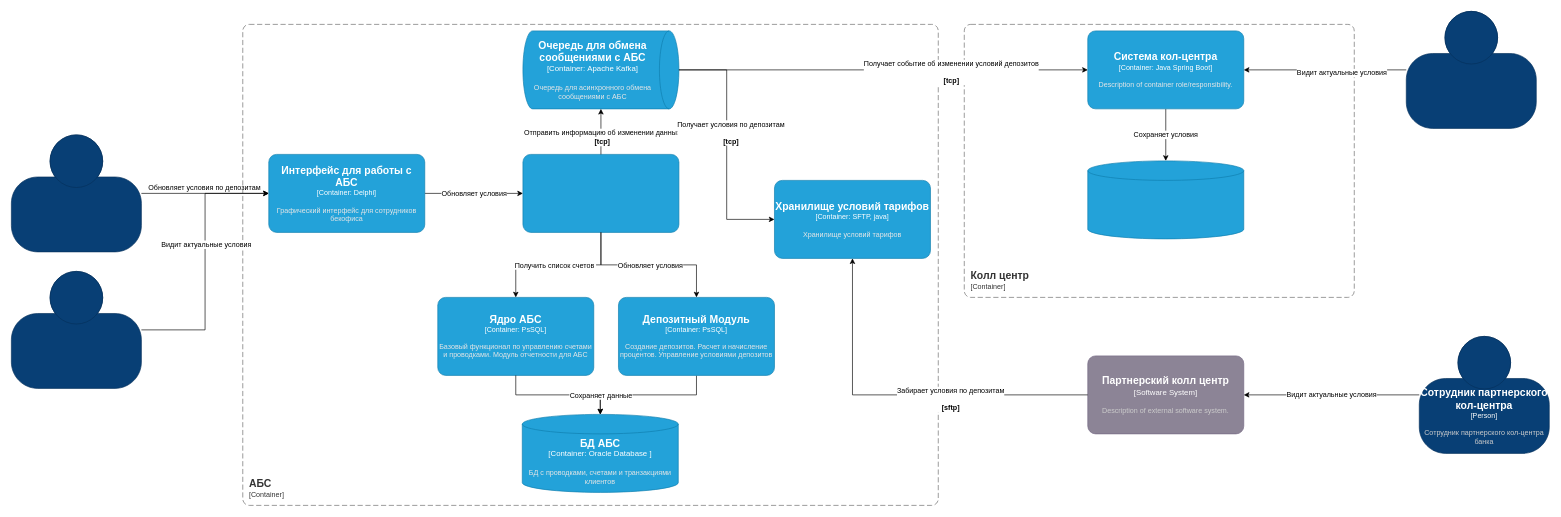
Image size: 1561x517. Some labels were removed from this diagram. Here are the shapes that lost their labels. From the top down, the centre of each, then its label:
[1471,69]: Сотрудник кол-центра [Person] Сотрудник кол-центра банка
[76,193]: Менеджеры бэк-офиса [Person] Специалисты по кредитам и депозитам
[600,193]: Шлюз АБС [Container: PsSQL] Шлюз для взаимодействия с функциями АБС
[1165,199]: БД Колл центра [Container: MySQL] База данных CRM колл центра
[76,329]: Менеджер фронт-офиса [Person] Сотрудники, которые работают в отделениях банка
